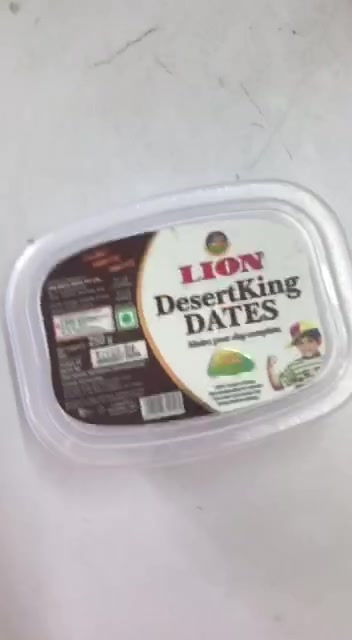Lion dates: (16, 176, 352, 465)
